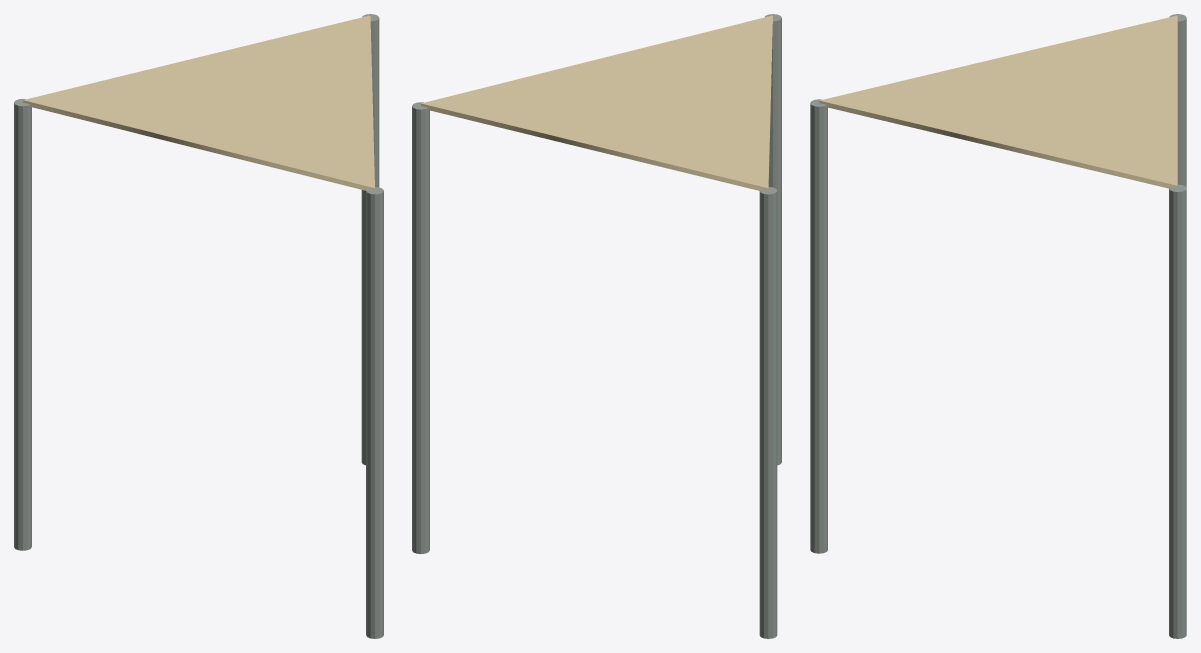
File: zoo-and-safari-park-builder-shade-sail-b53681e2__21502.glb
3 renders of one model, left to right at view 1: azimuth 30°, elevation 25°; view 2: azimuth 150°, elevation 25°; view 3: azimuth 270°, elevation 25°, orthographic.
Parts seen in each view (by area): view 1: shade-sail; view 2: shade-sail; view 3: shade-sail.
Part boxes in pixels (bbox=[...]): shade-sail: bbox=[14, 14, 383, 638]; shade-sail: bbox=[412, 14, 781, 638]; shade-sail: bbox=[810, 14, 1186, 638].
Bounding box in the file's own units: 1.88 × 2.21 × 1.68.
